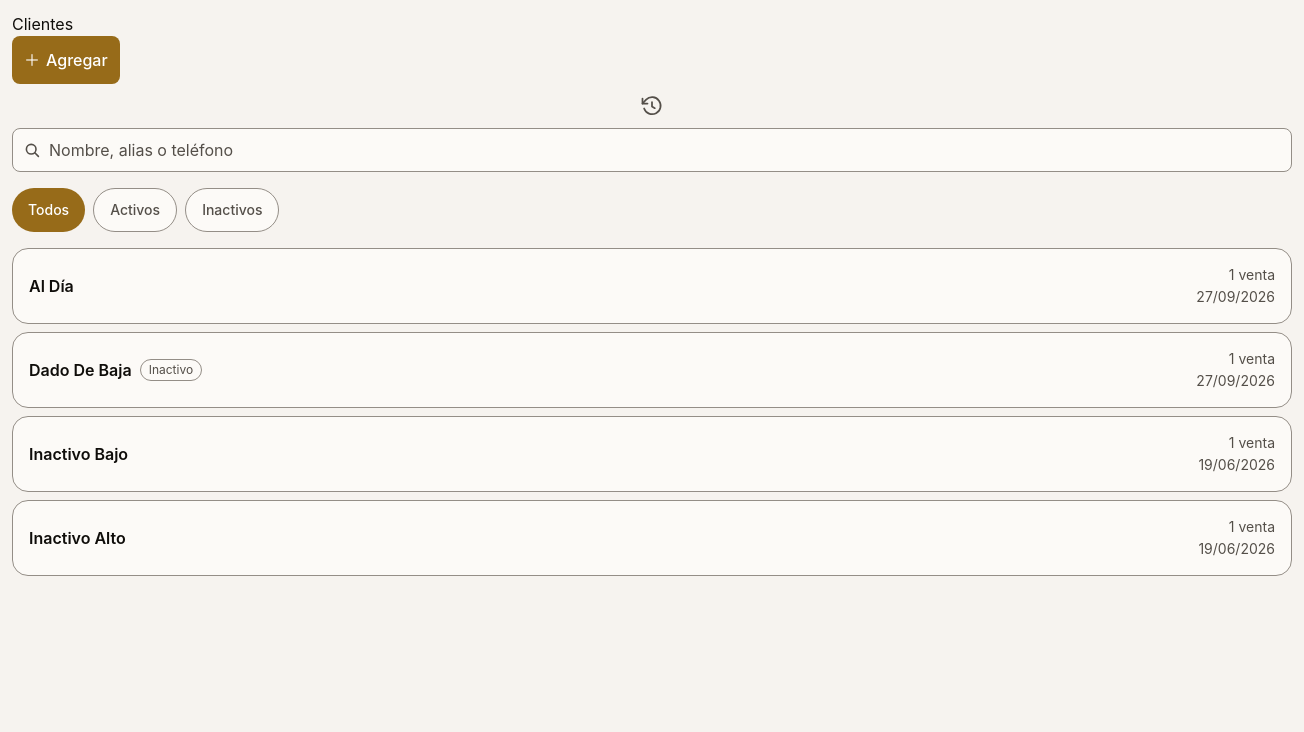
Clientes - terna Todos/Activos/Inactivos (WA-G, docs/06-ui-ux.md §3) › "Inactivos": solo vigentes inactivos por ritmo comercial, NUNCA dados de baja
Click the button "Inactivos" at (232, 210), box [185,188,279,232]
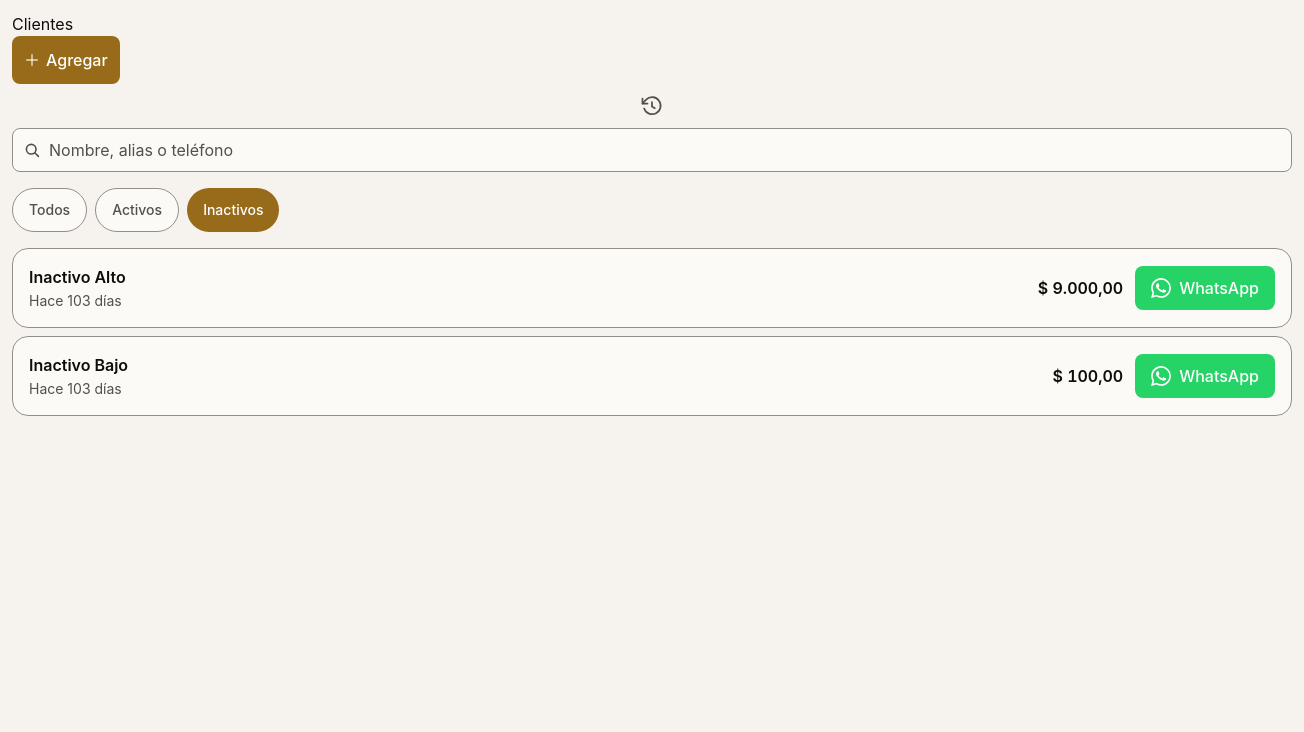
Expected: the text "Inactivo Bajo" is shown, [29,353,128,377]
Expected: the button "Al Día" is gone
Expected: the button "Dado De Baja" is gone
